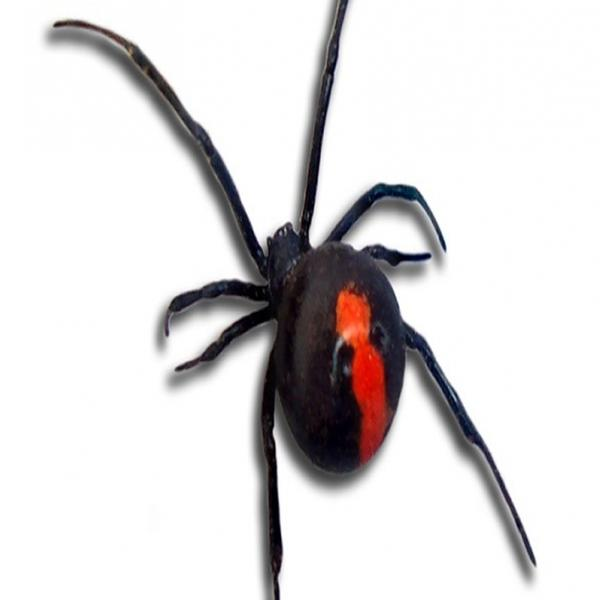Redback Spider: (59, 13, 541, 589)
